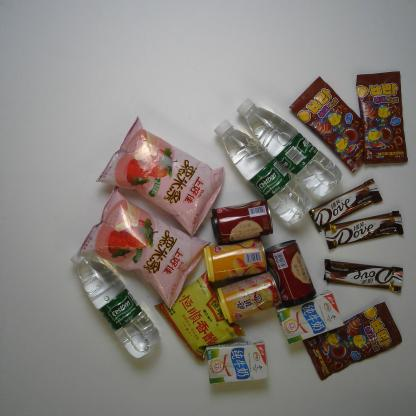Candy: (302, 302, 404, 382), (288, 75, 365, 174), (356, 70, 408, 165)
Canned Food: (216, 270, 283, 324), (264, 239, 317, 307), (210, 198, 274, 246), (203, 237, 269, 283)
Chocolate: (308, 178, 385, 232), (324, 210, 405, 250), (323, 258, 404, 293)
Drink: (236, 96, 343, 198), (213, 118, 314, 226), (70, 251, 162, 360)
Milk: (276, 290, 345, 345), (202, 338, 269, 384)
Puffed Food: (75, 186, 212, 310), (95, 115, 226, 238)
Seasoner: (153, 270, 247, 363)
